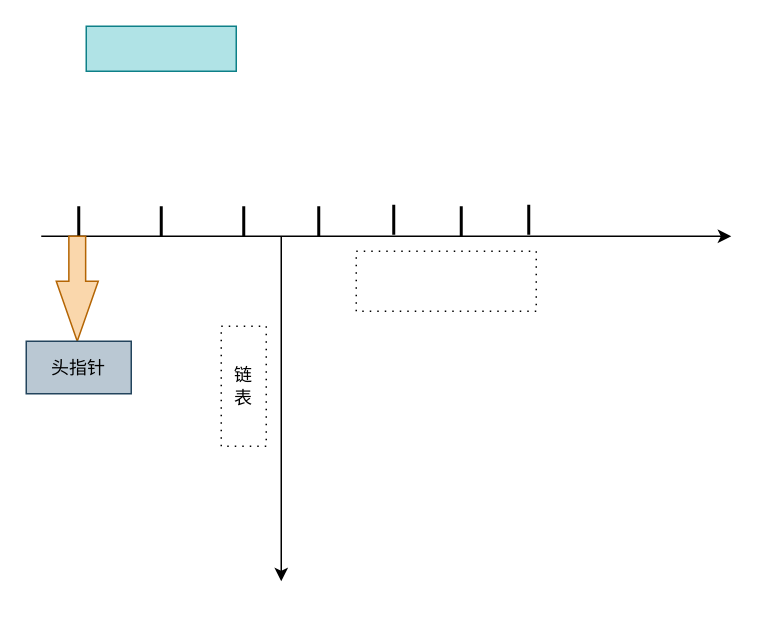
The diagram is 770 pixels wide and 620 high, and some of its shapes have lost their labels. Here are the shapes that lost their labels. From the top down, the box of each, then its label:
(85, 25, 236, 71): HashMap
(355, 250, 536, 311): 数组
